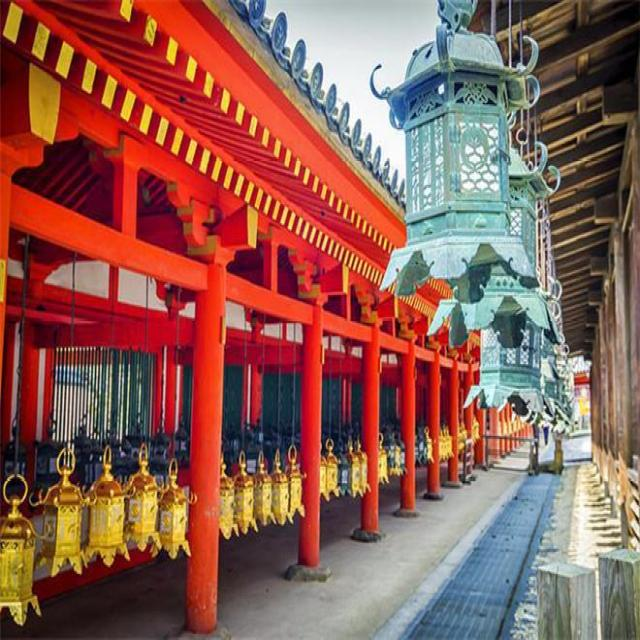other: (28, 11, 401, 323), (9, 433, 408, 564), (434, 402, 522, 450)
